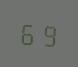nine: (38, 19, 56, 48)
six: (19, 18, 37, 46)
